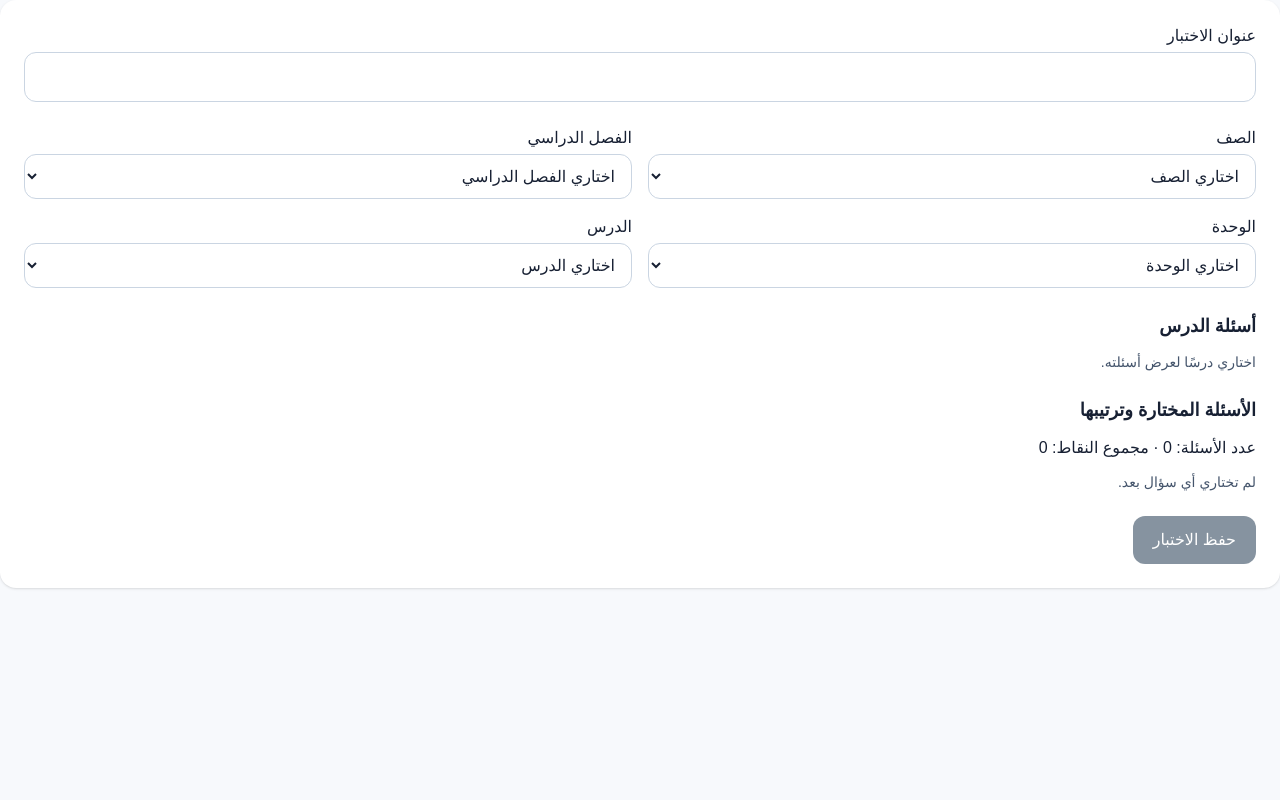
Scenario: assessment creation form › shows only questions from the selected lesson and summarizes selection
The image size is (1280, 800).
Select "الصف السادس" in the dropdown labelled "الصف" at x=952, y=176, box [648, 154, 1256, 199]
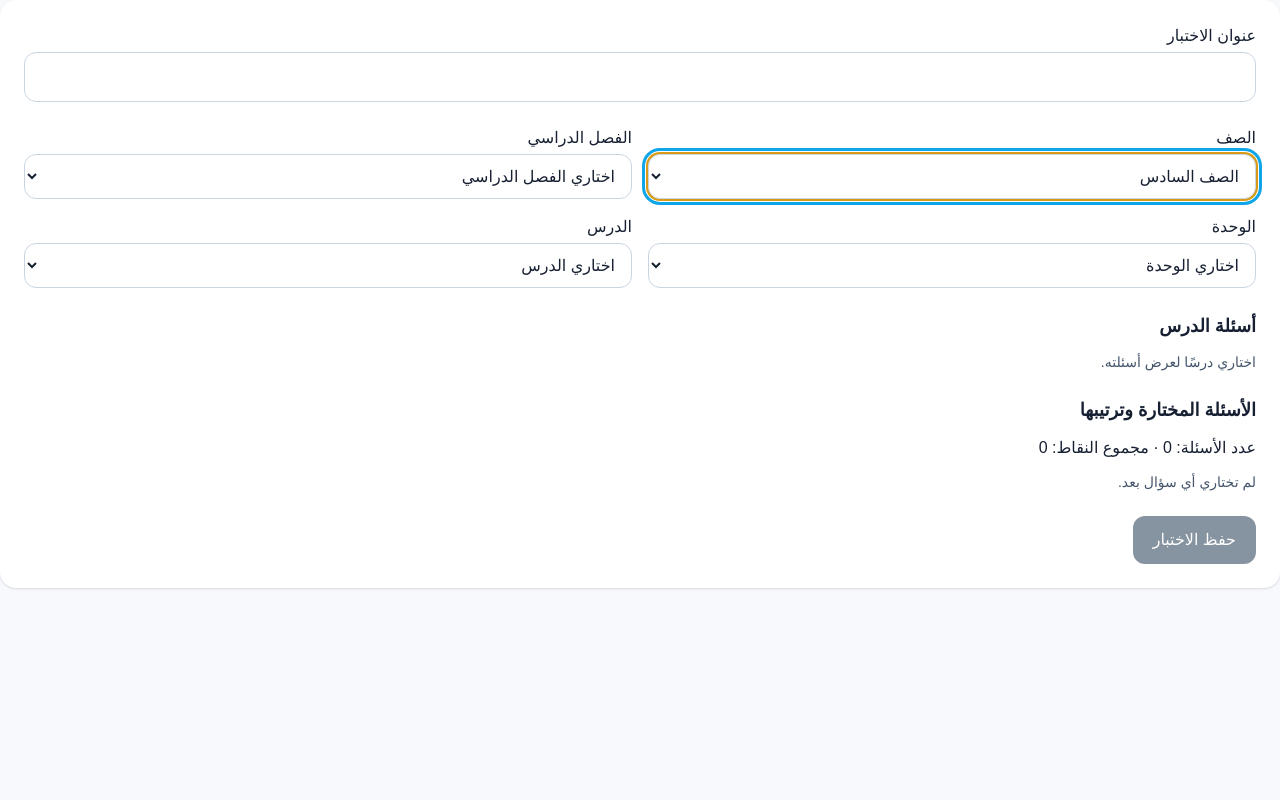
Select "الفصل الدراسي الأول ( 2026-2027 )" in the dropdown labelled "الفصل الدراسي" at x=328, y=176, box [24, 154, 632, 199]
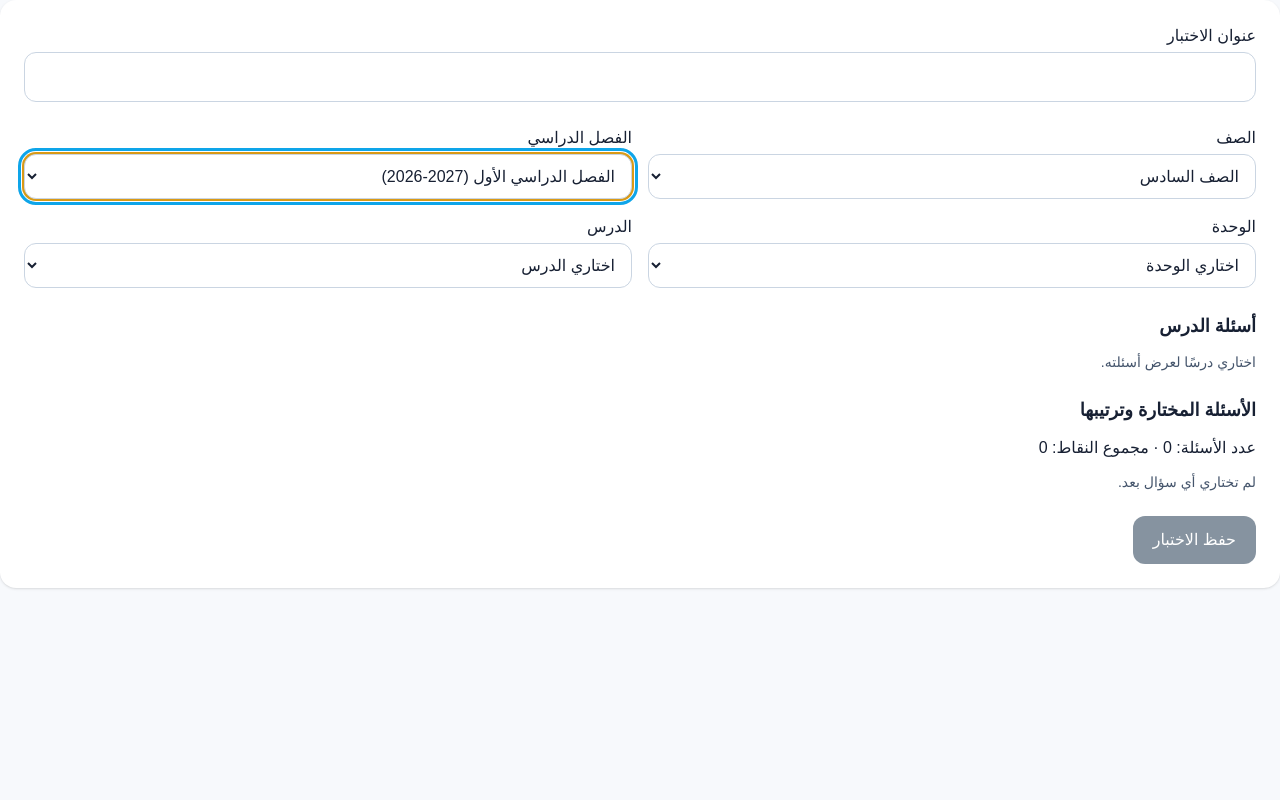
Select "من الخلية إلى الجسم" in the dropdown labelled "الوحدة" at x=952, y=266, box [648, 243, 1256, 288]
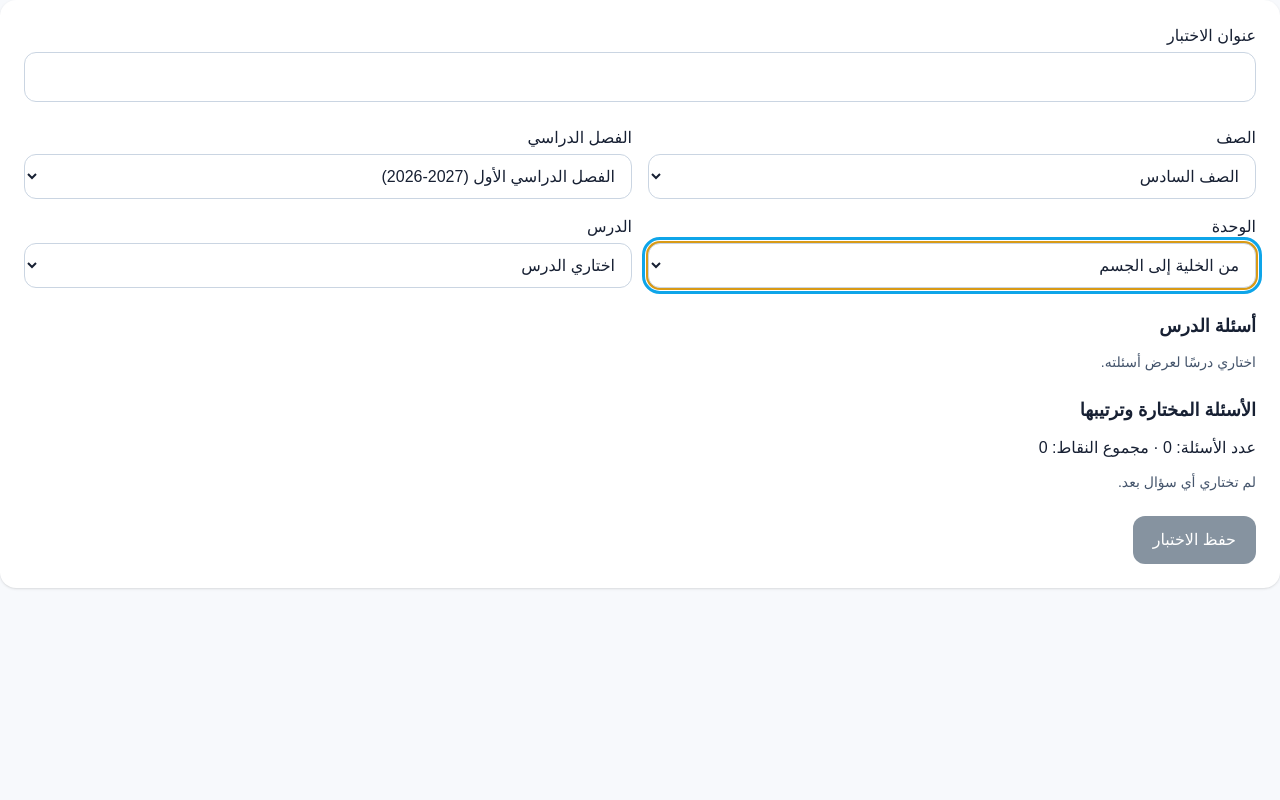
Select "الخلية" in the dropdown labelled "الدرس" at x=328, y=266, box [24, 243, 632, 288]
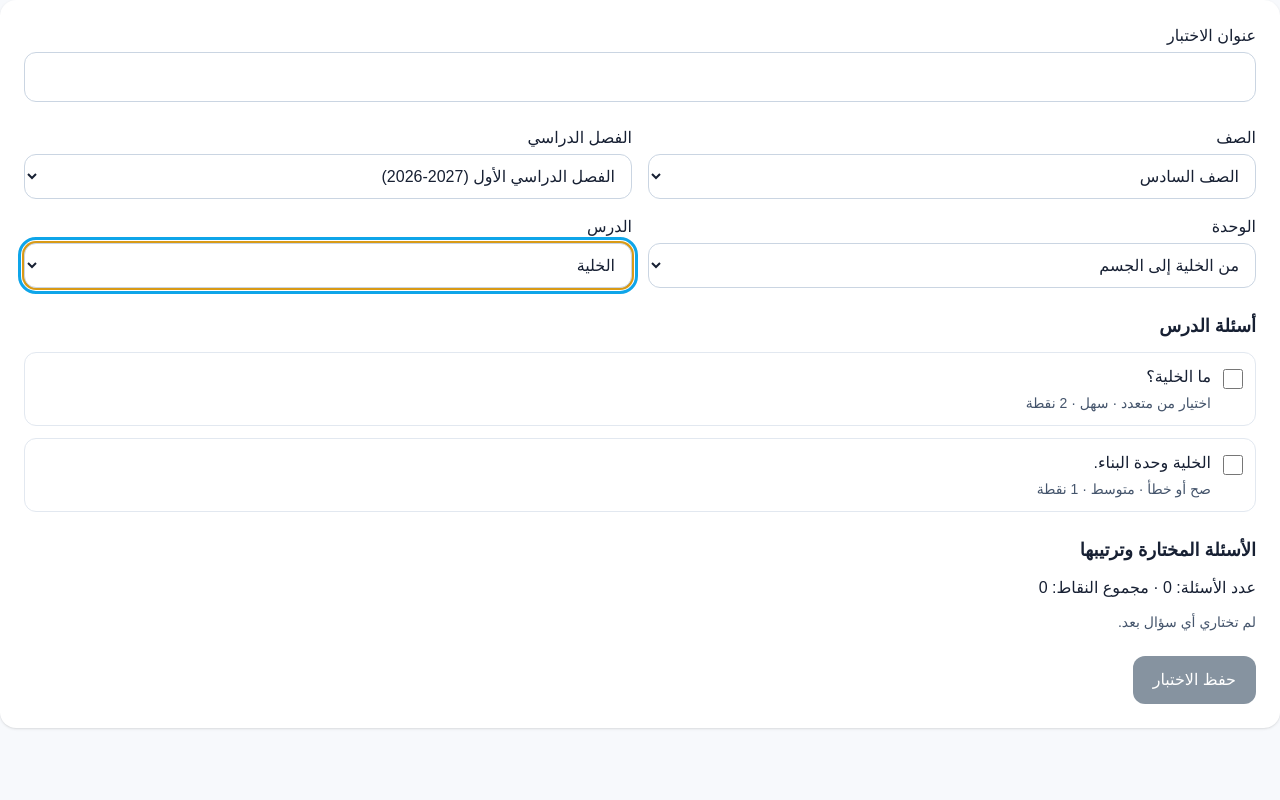
Expected: the text "ما الخلية؟" is shown, [1146, 368, 1211, 385]
Expected: the text "الخلية وحدة البناء." is shown, [1094, 454, 1211, 471]
Click the checkbox labelled "ما الخلية؟ اختيار من متعدد · سهل · 2 نقطة" at x=1233, y=379, box [1223, 369, 1243, 389]
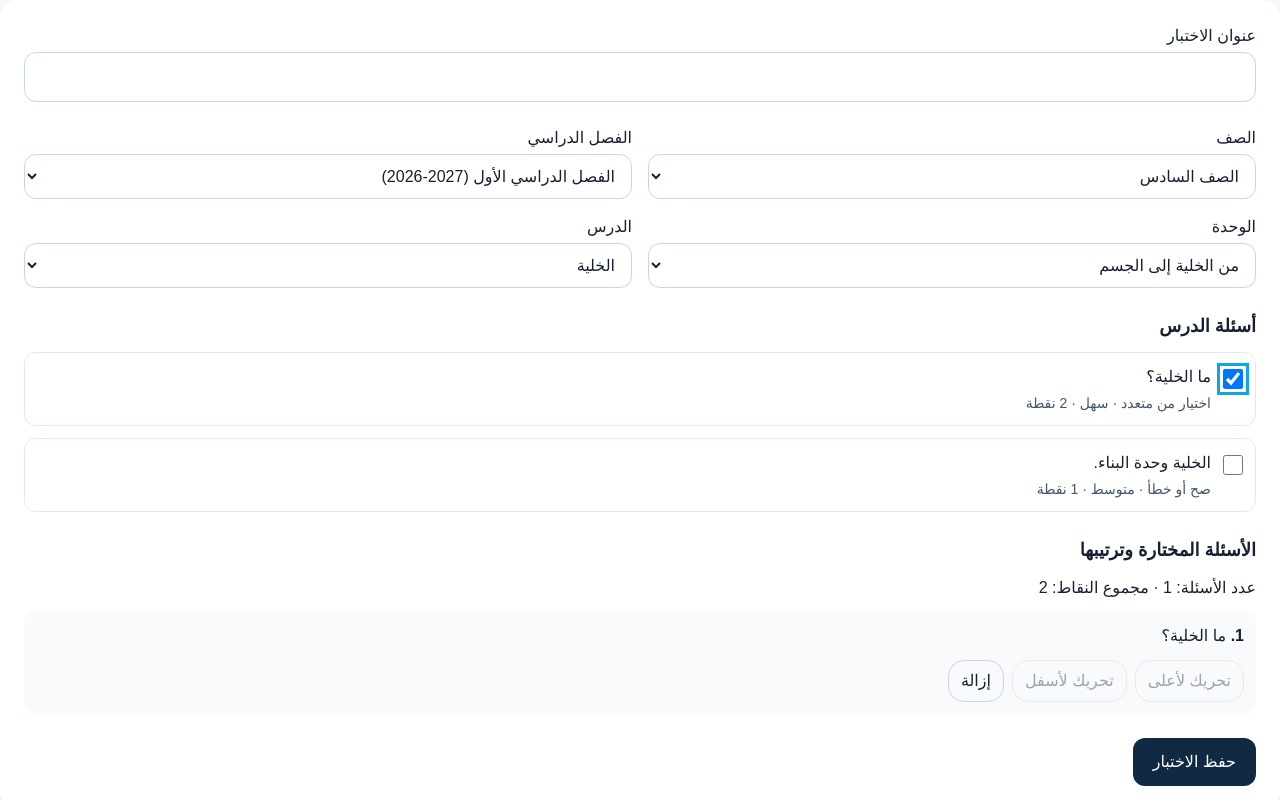
Click the checkbox labelled "الخلية وحدة البناء. صح أو خطأ · متوسط · 1 نقطة" at x=1233, y=465, box [1223, 455, 1243, 475]
(page scrolled)
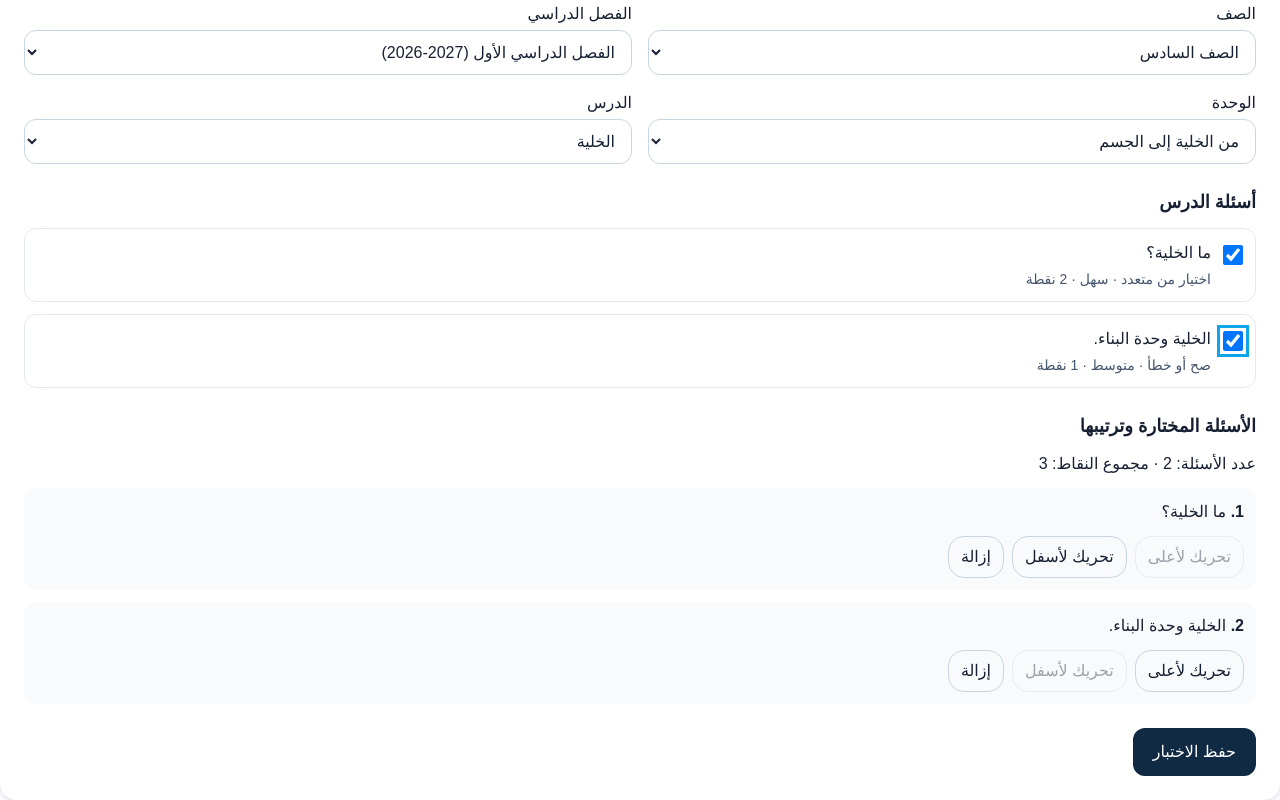
Expected: the button "حفظ الاختبار" is enabled, [1133, 728, 1256, 776]
Expected: the text "عدد الأسئلة: 2 · مجموع النقاط: 3" is shown, [1039, 455, 1256, 472]
